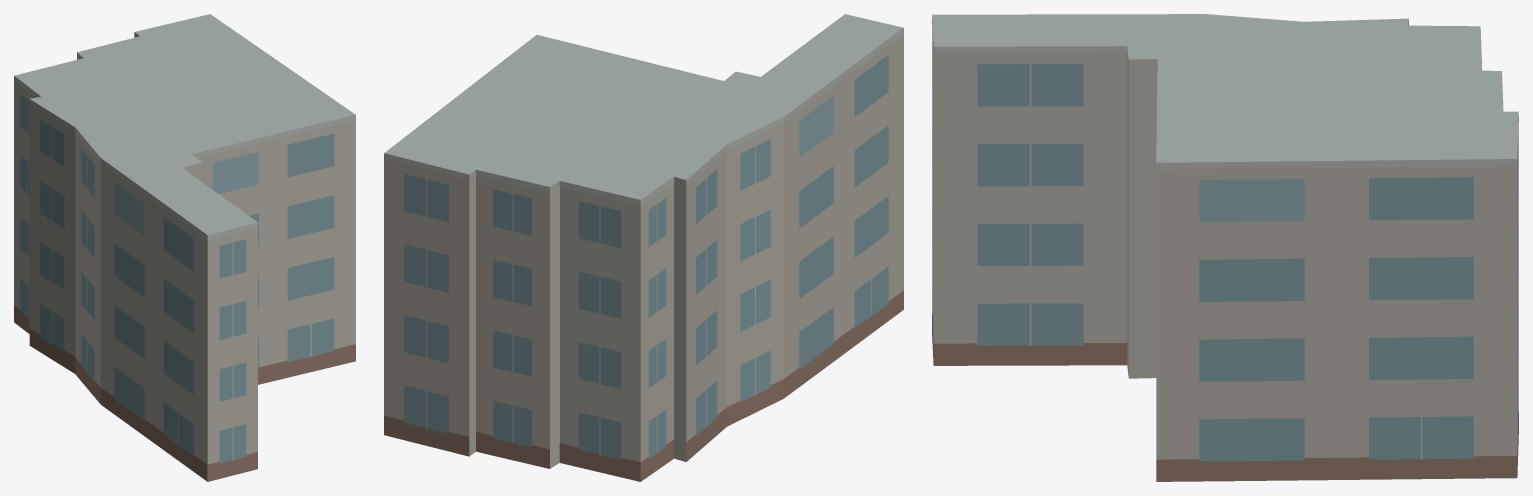
The model's file is survey-upis-32463006.glb.
The picture shows the model from 3 angles, left to right: view 1: azimuth 30°, elevation 25°; view 2: azimuth 150°, elevation 25°; view 3: azimuth 270°, elevation 25°; orthographic projection. The views are drawn at different scales.
Visible parts, largest first — view 1: survey-upis-32463006.tmp; view 2: survey-upis-32463006.tmp; view 3: survey-upis-32463006.tmp.
Boxes of the visible parts, x1,y1,x2,y2 form: survey-upis-32463006.tmp: (14,14,355,481); survey-upis-32463006.tmp: (384,14,903,481); survey-upis-32463006.tmp: (932,14,1518,481).
Size of the model in its own units: 11.21 by 11.2 by 18.67.
